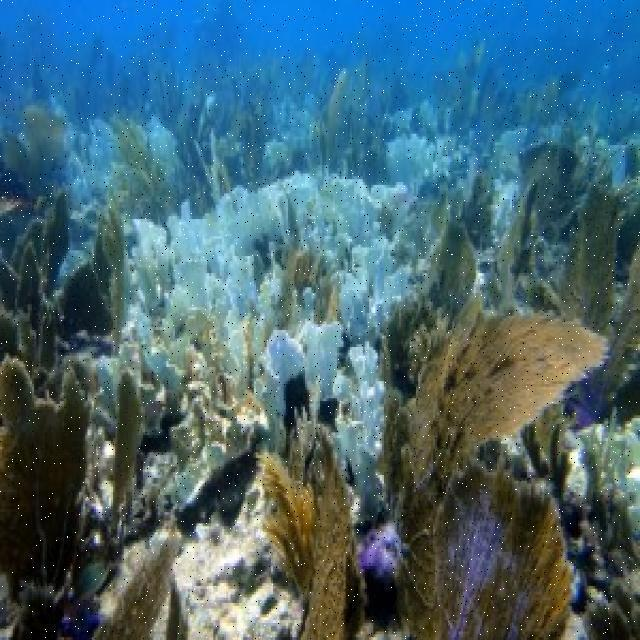Bleached: (148, 222, 385, 386), (177, 527, 286, 640), (156, 394, 254, 507), (334, 343, 394, 508), (577, 411, 640, 519), (378, 132, 458, 189), (65, 116, 114, 192), (145, 110, 187, 174)
Healthy: (398, 331, 573, 640), (2, 353, 80, 592), (542, 146, 640, 317), (294, 456, 356, 640)
